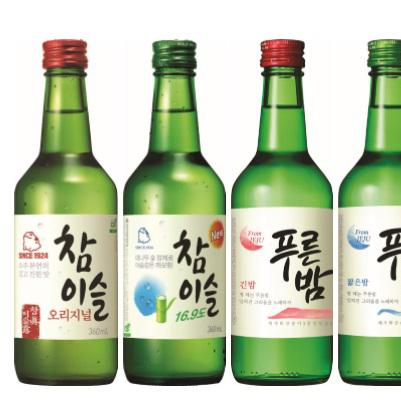soju: (12, 35, 401, 387)
